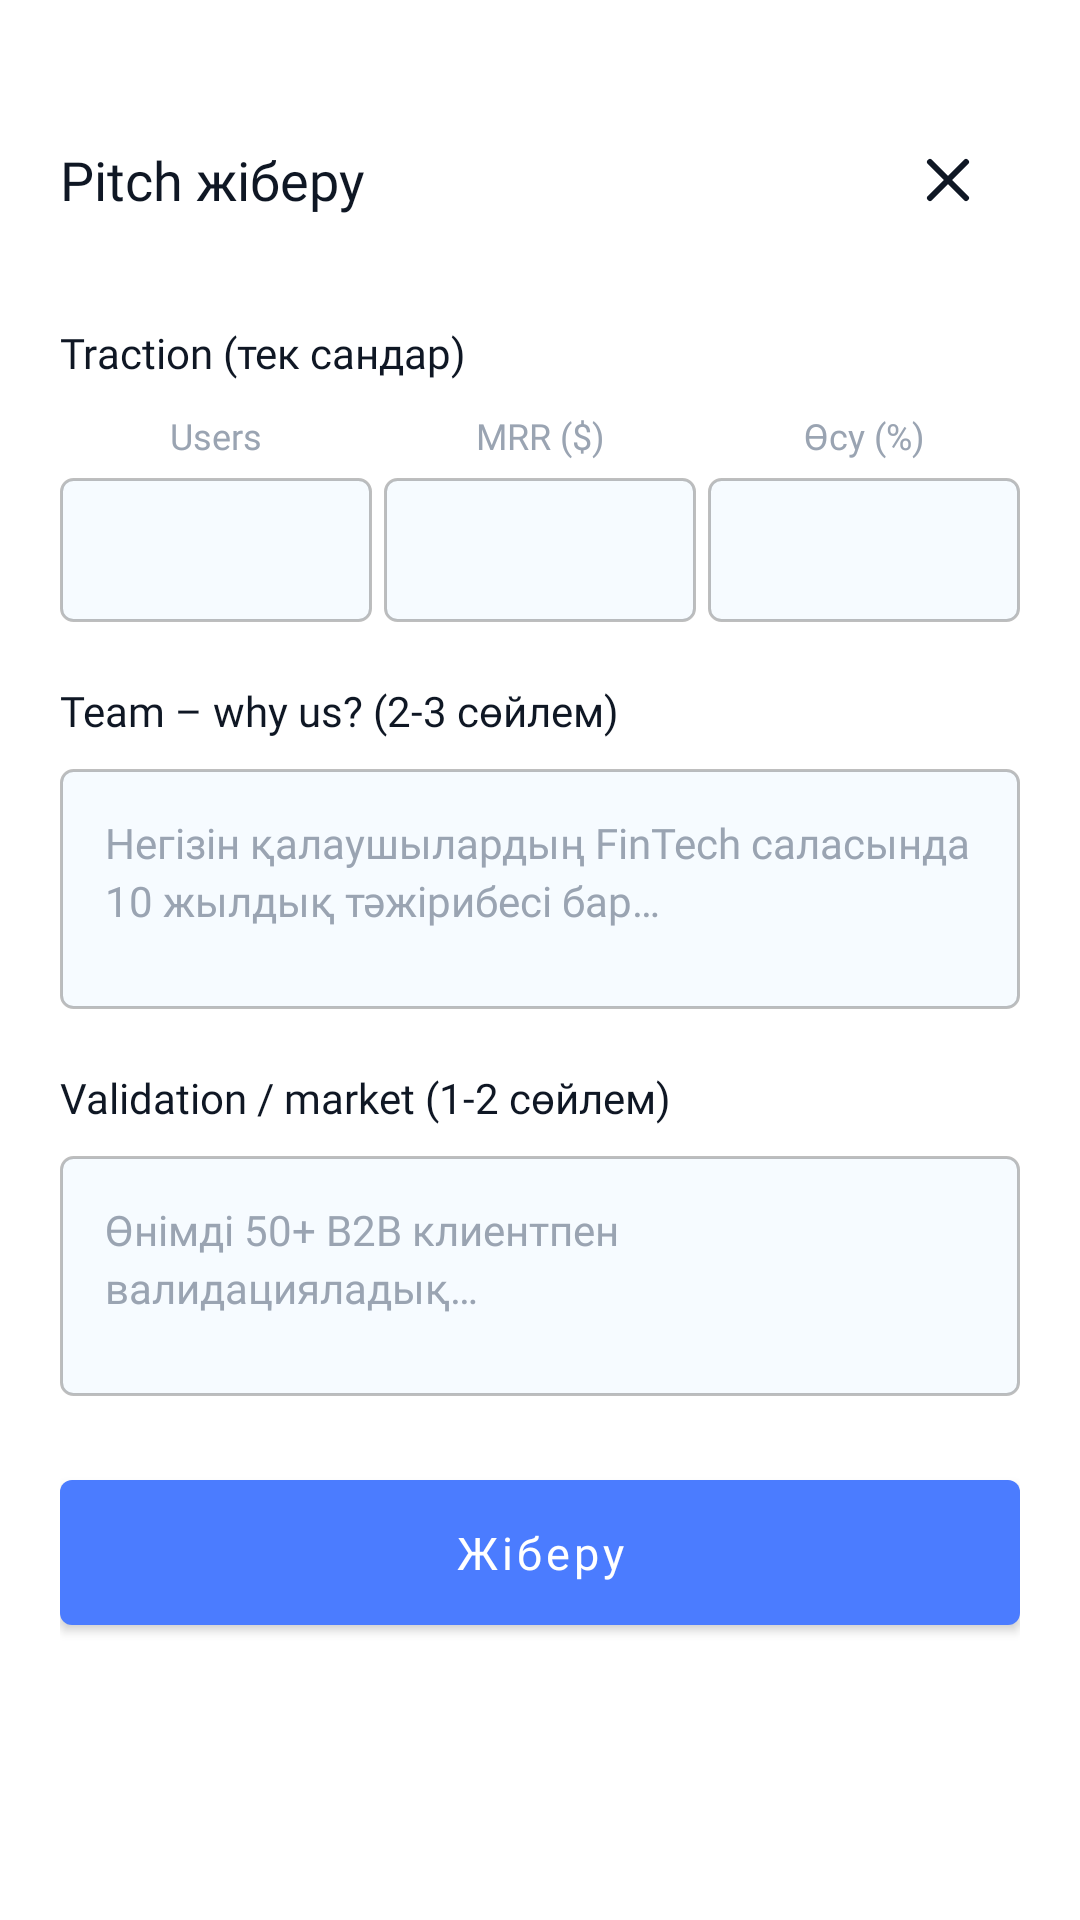

Icons on this 1080x1920 Android screen, each with its box as (x1, y1, x2, y2):
Болдырмау: (927, 159, 969, 201)
